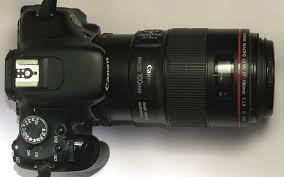camera: (9, 6, 272, 170)
